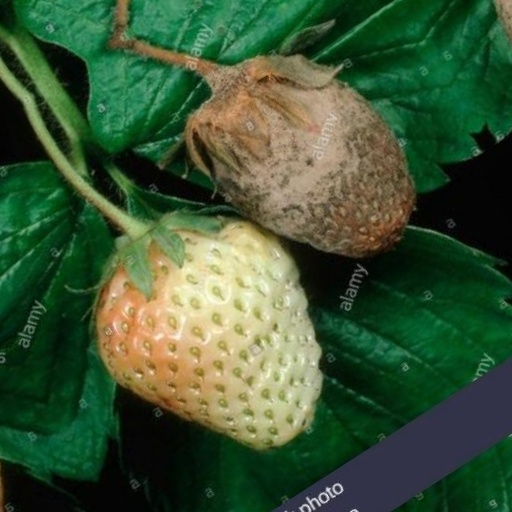Gray Mold: (250, 66, 440, 319)
